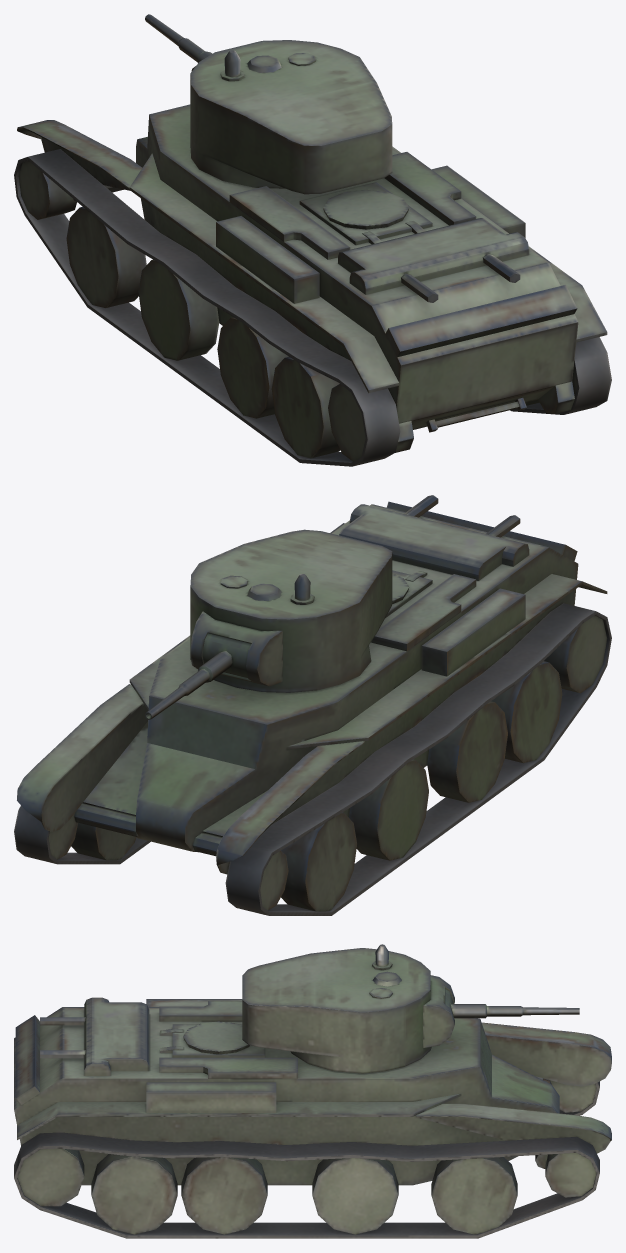
3 renders of one model, top to bottom at view 1: azimuth 30°, elevation 25°; view 2: azimuth 150°, elevation 25°; view 3: azimuth 270°, elevation 25°, orthographic. The views are drawn at different scales.
Parts seen in each view (by area): view 1: BT-7 Hull, BT-7 Turret; view 2: BT-7 Hull, BT-7 Turret; view 3: BT-7 Hull, BT-7 Turret.
Boxes of the visible parts, bbox=[...] form: BT-7 Hull: bbox=[14, 104, 611, 466]; BT-7 Turret: bbox=[145, 14, 392, 194]; BT-7 Hull: bbox=[14, 495, 611, 915]; BT-7 Turret: bbox=[145, 529, 392, 719]; BT-7 Hull: bbox=[14, 997, 611, 1238]; BT-7 Turret: bbox=[242, 944, 579, 1073].
Size of the model in its own units: 2.21 by 2.39 by 5.65.
